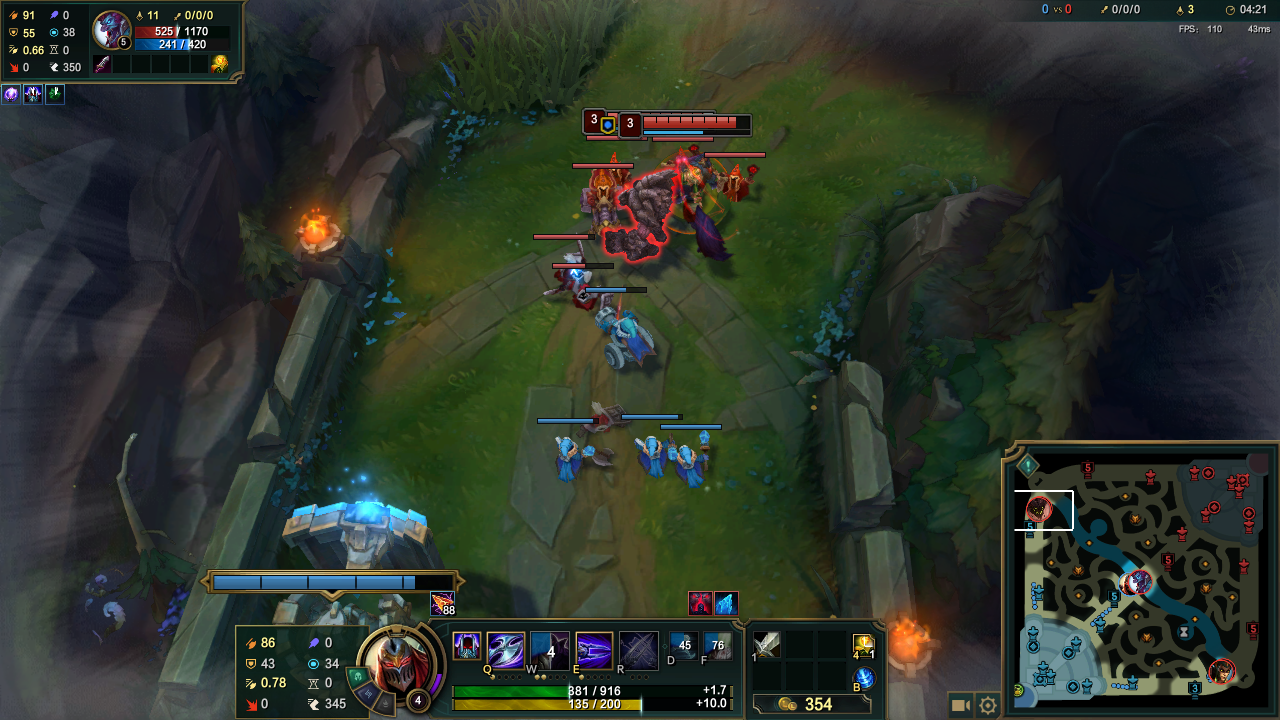DFYX: (641, 116, 754, 137)
WFXB: (592, 295, 660, 368), (670, 433, 727, 490), (626, 425, 676, 482), (546, 428, 597, 475)
